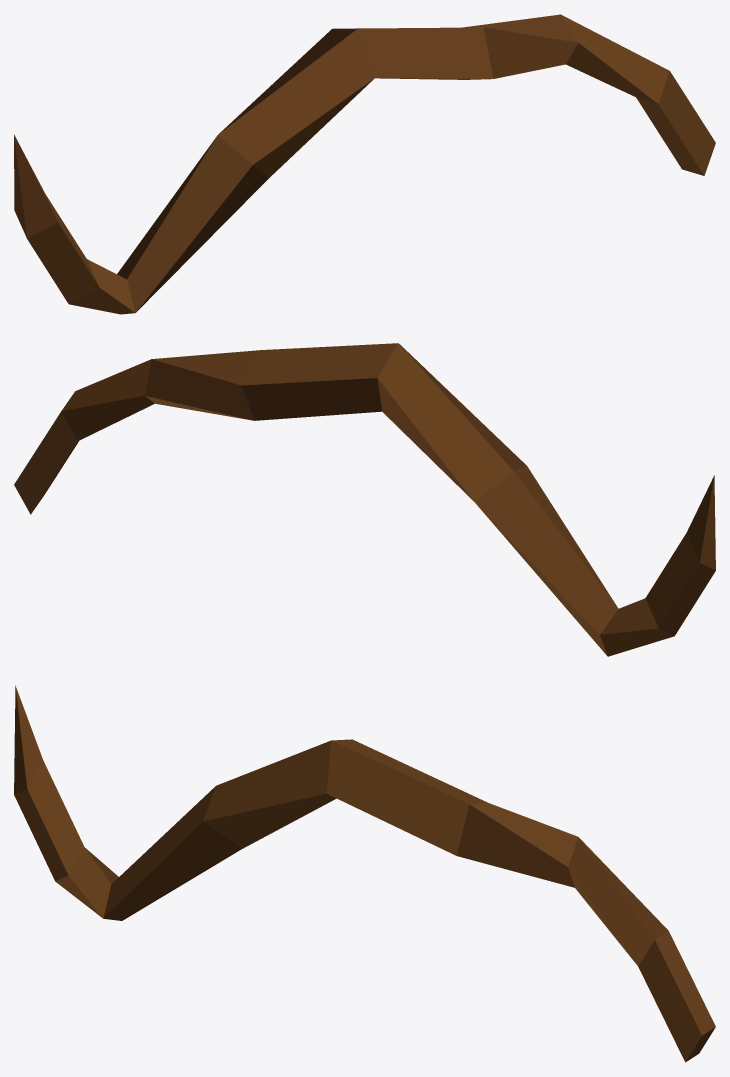
File: branch1.fbx
3 views of the same model, one above another, from view 1: azimuth 30°, elevation 25°; view 2: azimuth 150°, elevation 25°; view 3: azimuth 330°, elevation 25° (orthographic).
Visible parts, largest first — view 1: Cube; view 2: Cube; view 3: Cube.
Boxes of the visible parts, box(x1,y1,x2,y2) form: Cube: box(14, 14, 715, 314); Cube: box(14, 343, 715, 656); Cube: box(14, 685, 715, 1062).
Size of the model in its own units: 2974 by 1004 by 307.
